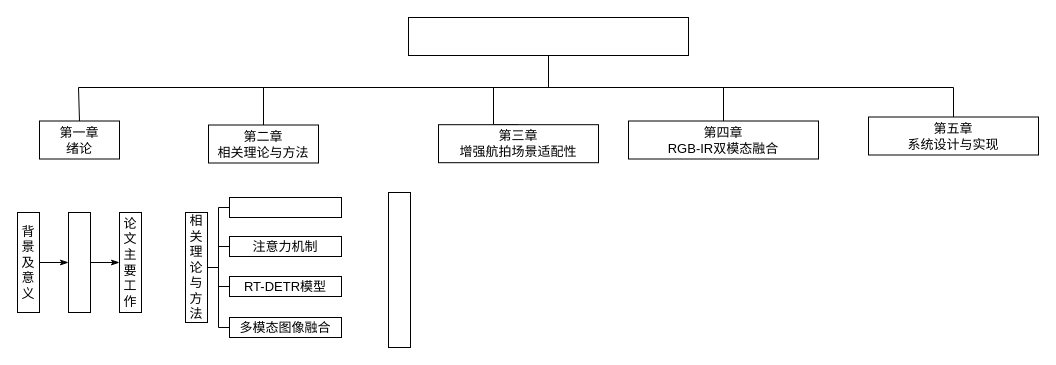
This 1056x365 diagram has some shape labels left out. The shapes that lost their labels are listed below. From the top down, each one's box as (x1, y1, x2, y2) in pixels, then its label:
(408, 16, 688, 56): 基于深度学习的无人机航拍小目标检测算法研究
(228, 196, 342, 218): 卷积神经网络
(68, 212, 90, 312): 研究现状
(388, 192, 410, 348): 多模态图像融合理论
